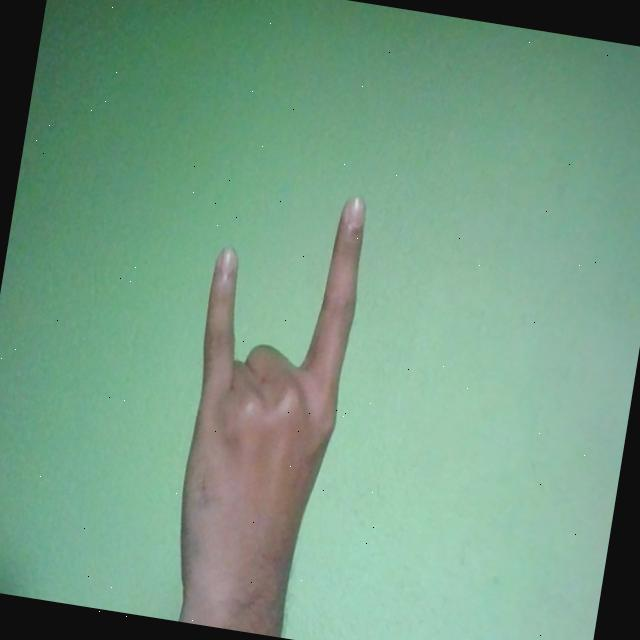open Plam: (156, 172, 373, 640)
